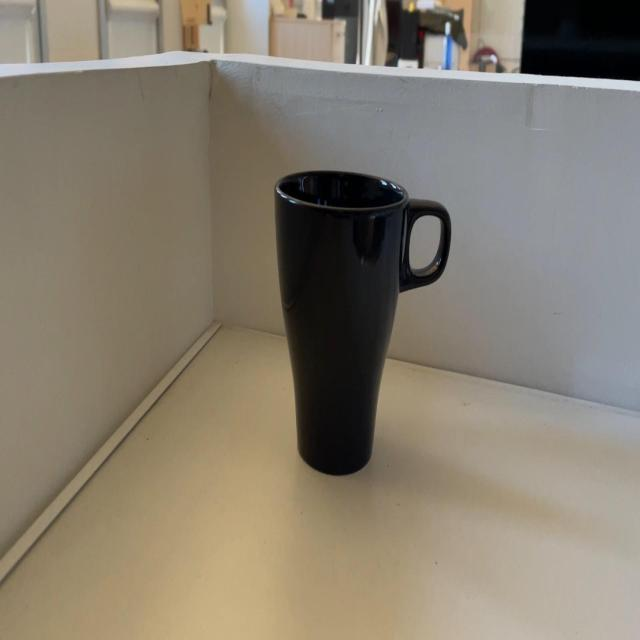cup: (270, 167, 455, 471)
